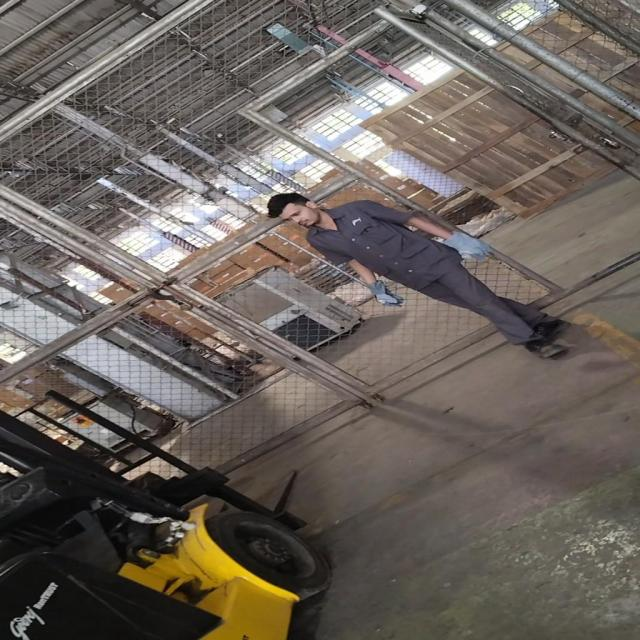Gloves-Detection: (438, 228, 489, 267), (360, 276, 400, 312)
